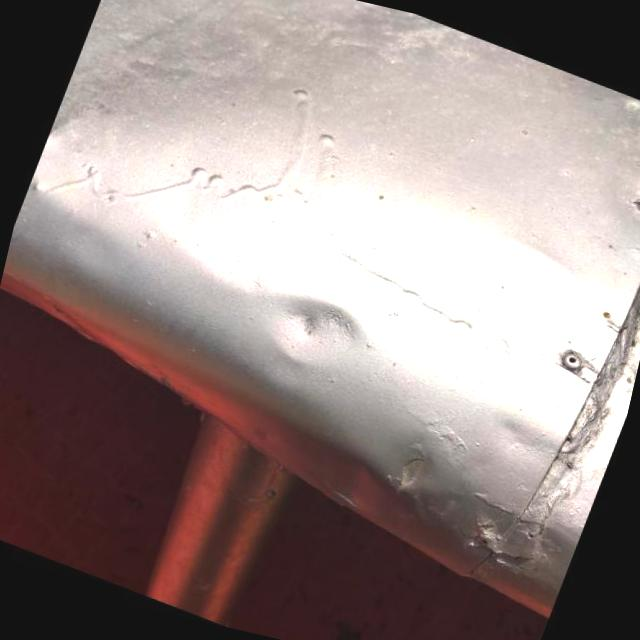dent: (314, 398, 528, 582), (247, 281, 369, 390)
